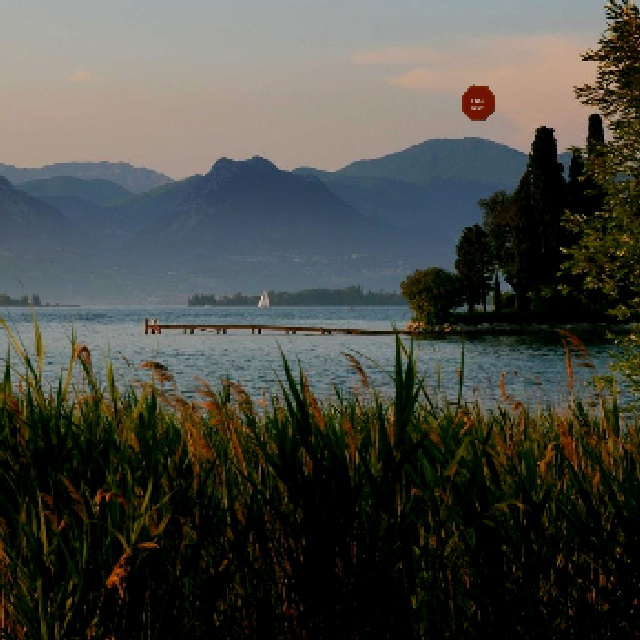FAKE_STOP: (459, 83, 494, 119)
